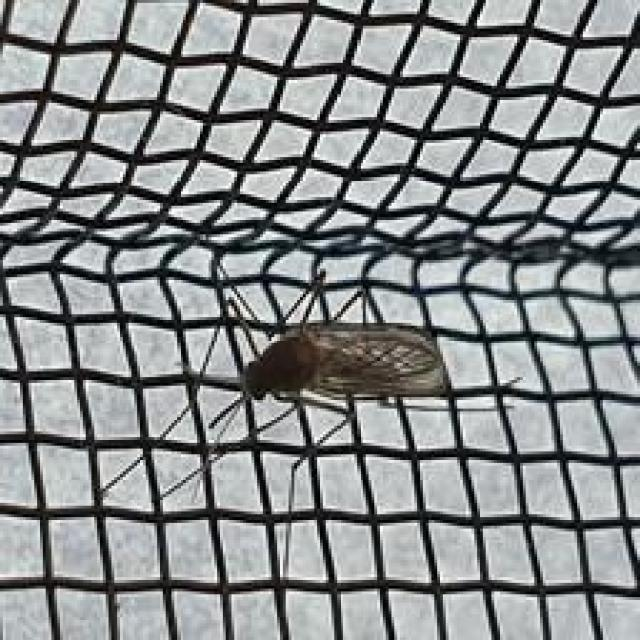Culex: (216, 267, 521, 419)
